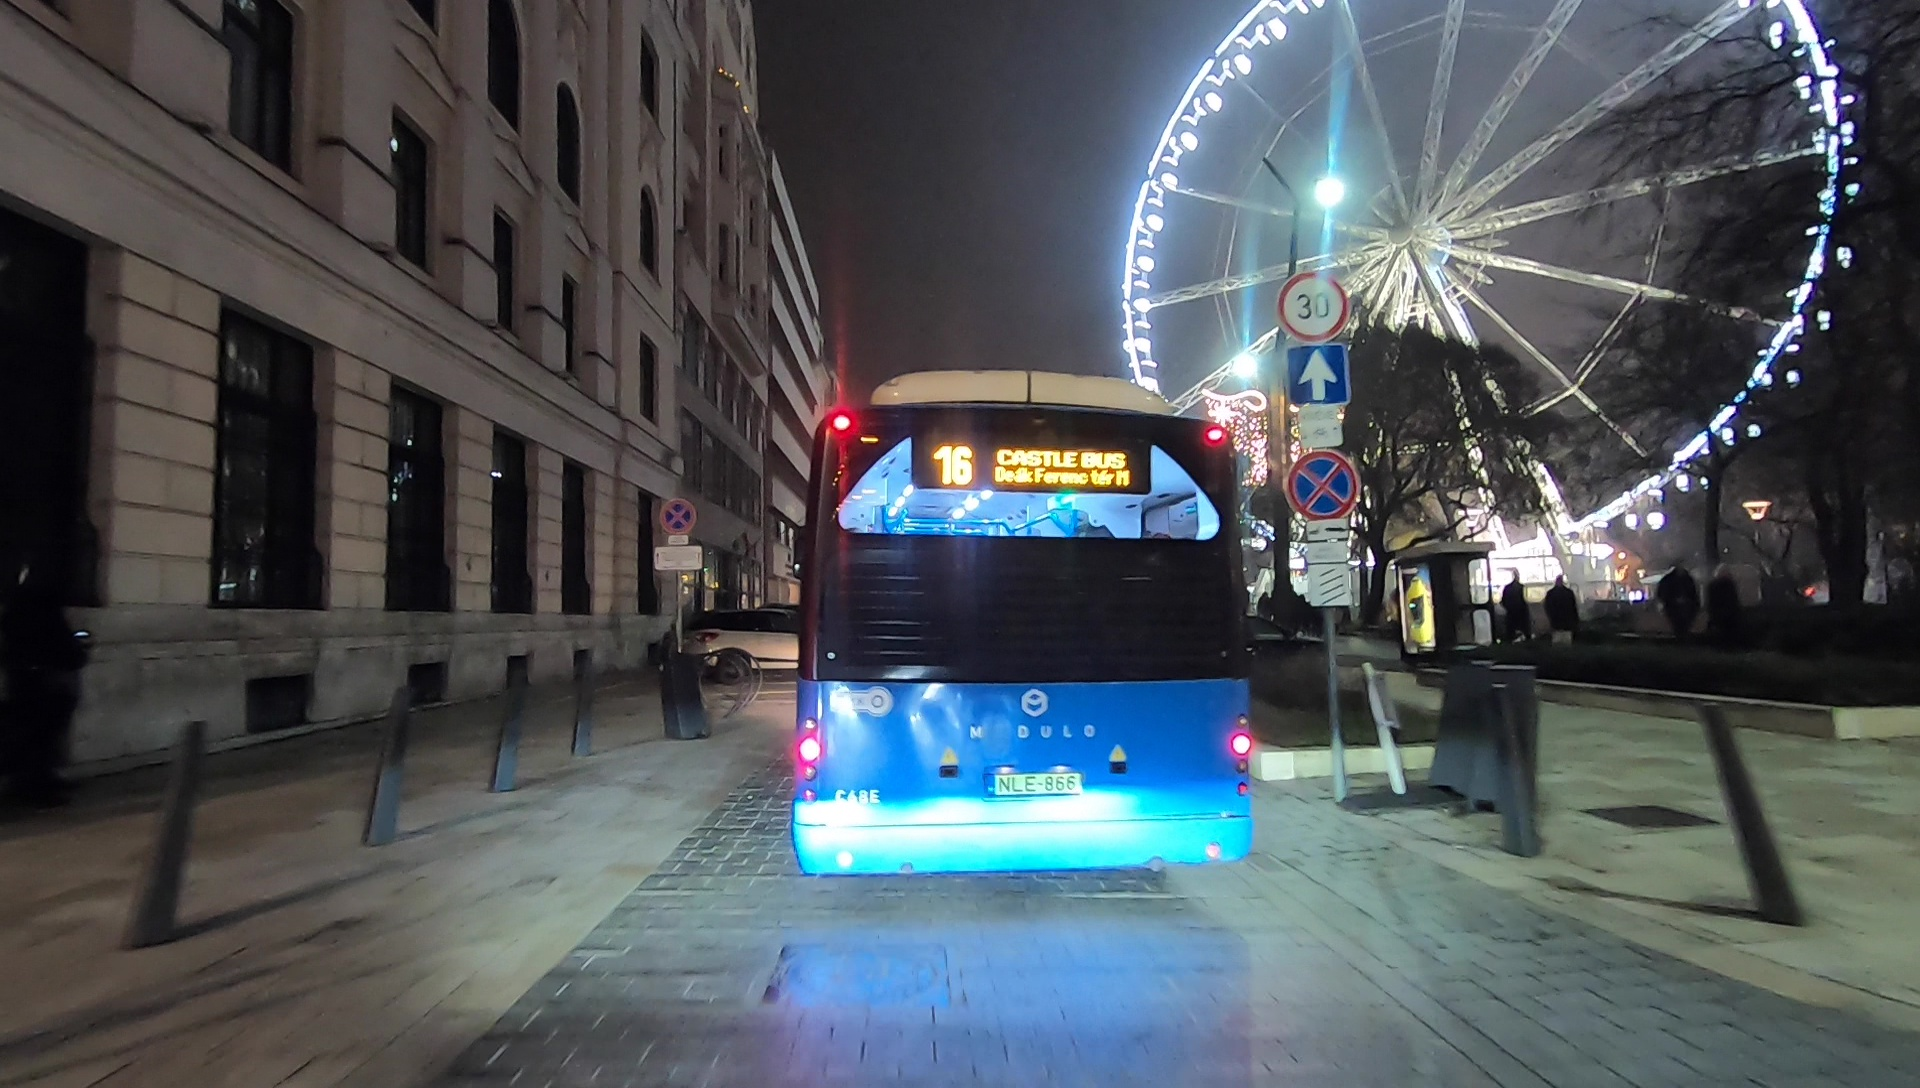person: (1658, 563, 1701, 652), (1543, 580, 1578, 661), (1710, 561, 1739, 658), (1502, 576, 1532, 658)
